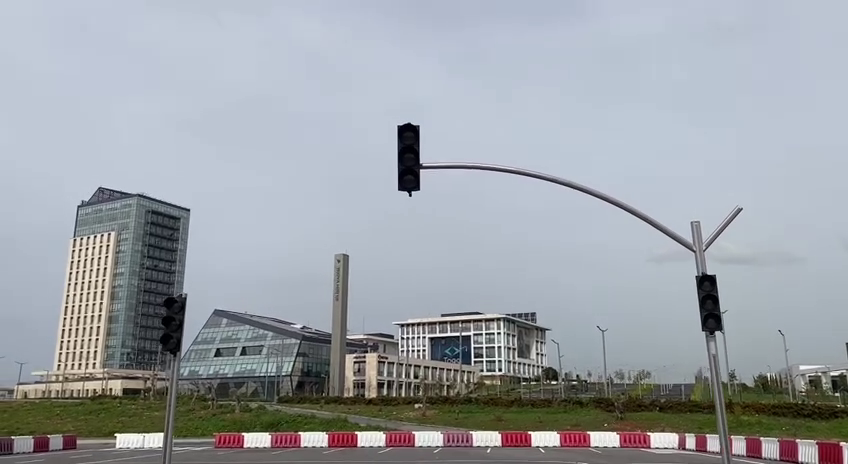trafficLight: (391, 118, 426, 200), (691, 270, 725, 337), (157, 292, 189, 360)
